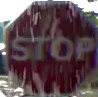Stop: (5, 1, 97, 96)
